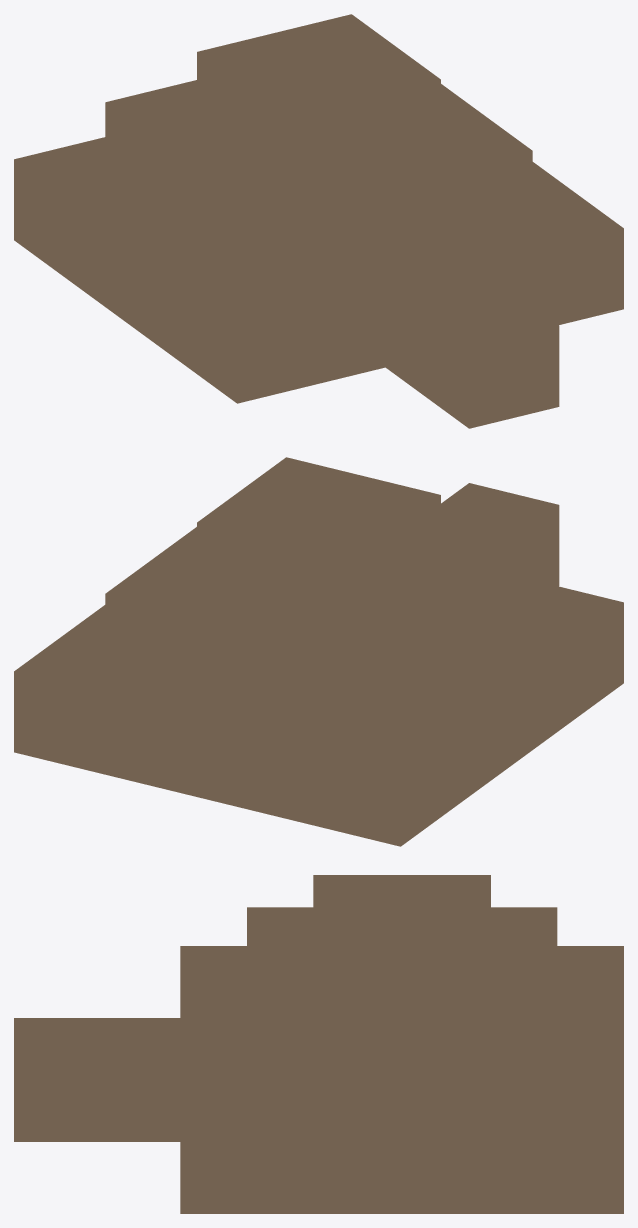
The model's file is SM_Ziggurat_Citadel.fbx.
3 renders of one model, top to bottom at view 1: azimuth 30°, elevation 25°; view 2: azimuth 150°, elevation 25°; view 3: azimuth 270°, elevation 25°, orthographic.
Parts seen in each view (by area): view 1: SM_Ziggurat_Citadel; view 2: SM_Ziggurat_Citadel; view 3: SM_Ziggurat_Citadel.
Part boxes in pixels (x1,y1,x2,y2): SM_Ziggurat_Citadel: (14, 14, 623, 428); SM_Ziggurat_Citadel: (14, 457, 623, 846); SM_Ziggurat_Citadel: (14, 875, 623, 1213).
Bounding box in the file's own units: 1200 × 1650 × 620.
